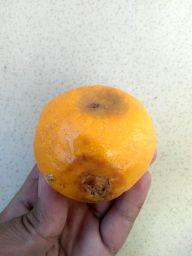Ripe: (35, 85, 155, 203)
